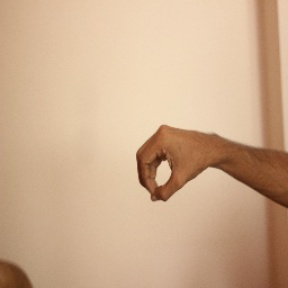O: (132, 121, 215, 205)
